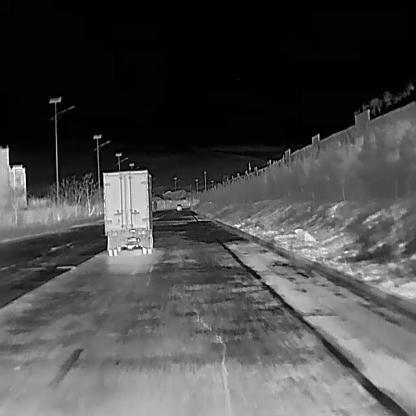car: (101, 168, 156, 255), (175, 202, 181, 210)
